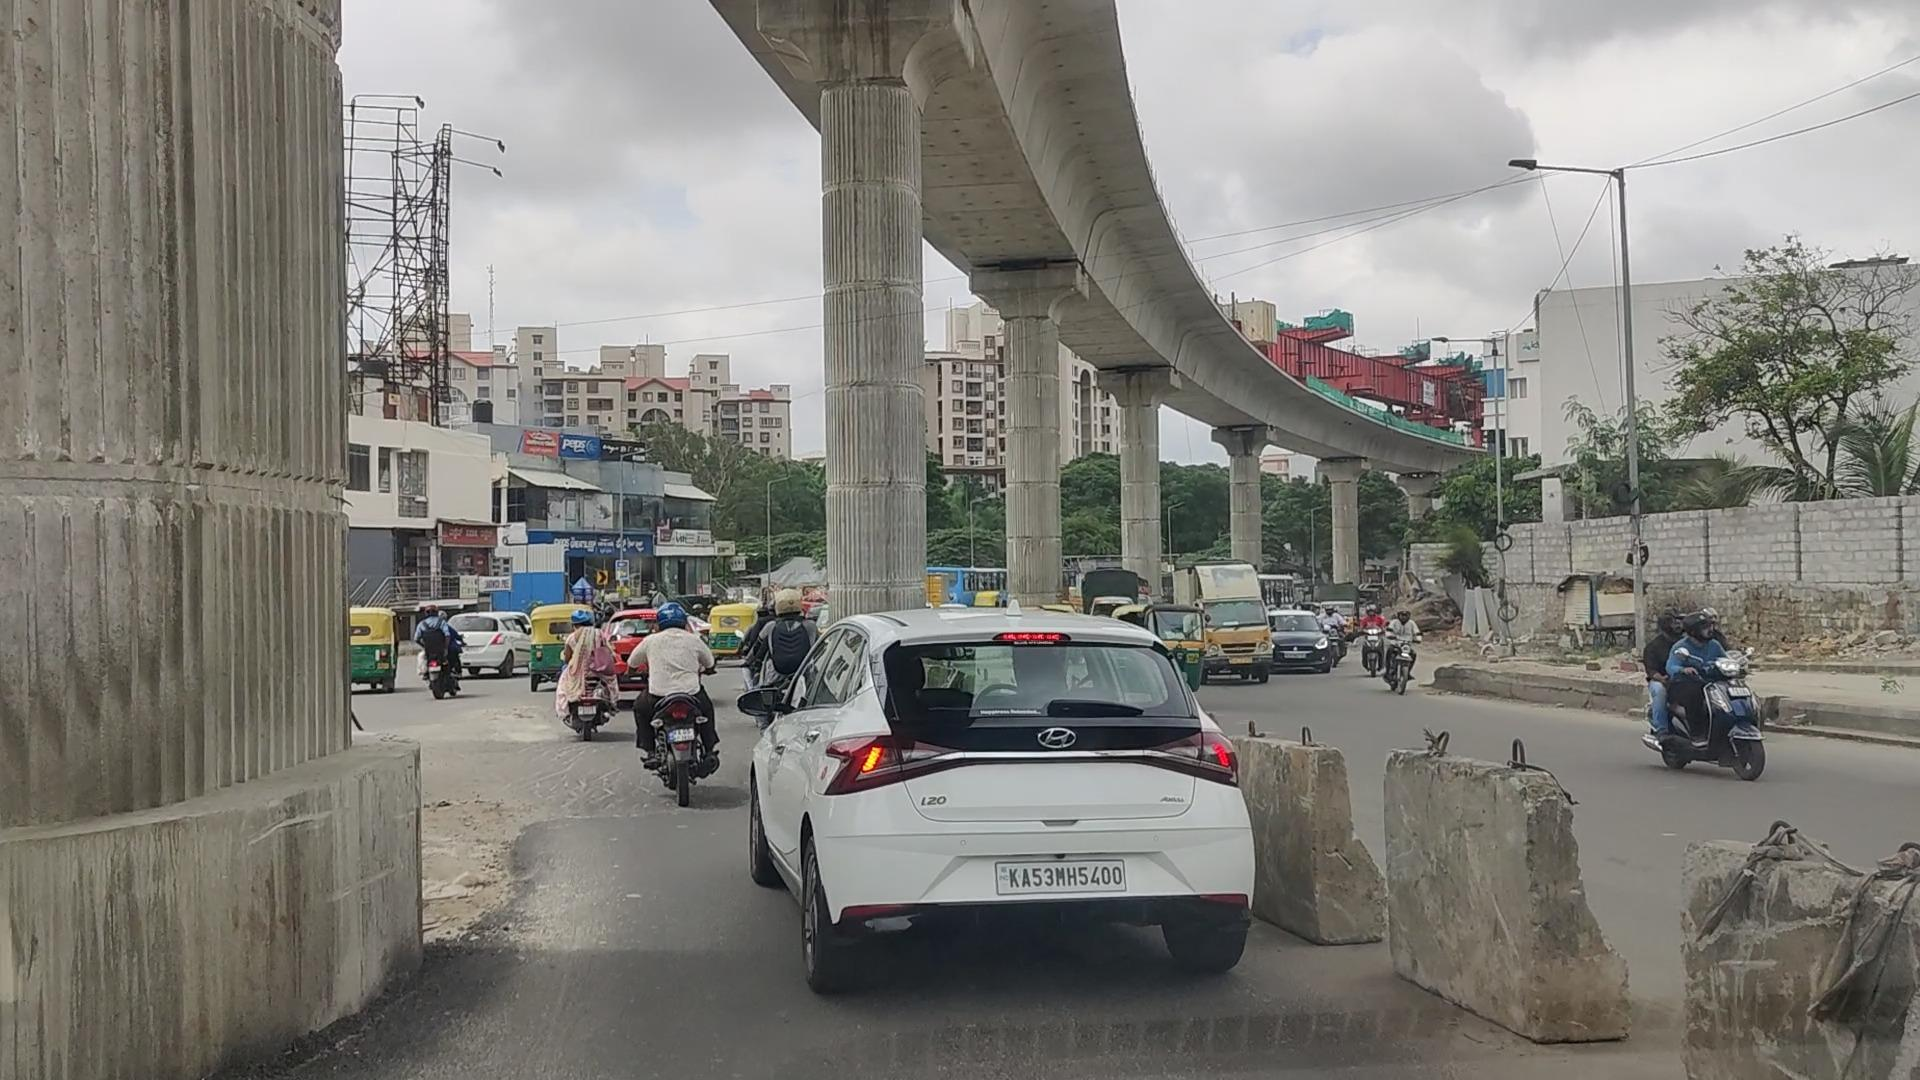LMV: (754, 600, 1244, 984), (634, 603, 717, 794), (560, 616, 615, 740), (414, 608, 472, 695)
RoadDamages: (417, 781, 541, 955), (472, 704, 570, 757)
